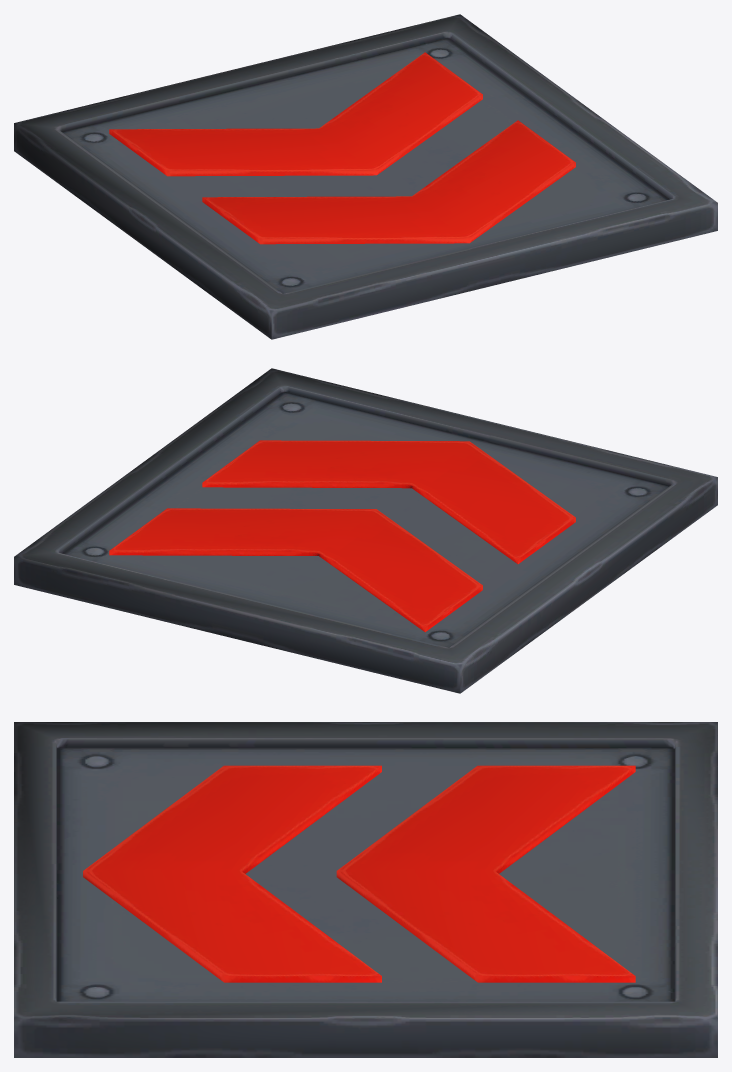
The model's file is SM_Step_Boost_01.glb.
3 views of the same model, one above another, from view 1: azimuth 30°, elevation 25°; view 2: azimuth 150°, elevation 25°; view 3: azimuth 270°, elevation 25° (orthographic). The views are drawn at different scales.
Visible parts, largest first — view 1: SM_Step_Boost_01; view 2: SM_Step_Boost_01; view 3: SM_Step_Boost_01.
Part boxes in pixels (bbox=[...]): SM_Step_Boost_01: bbox=[14, 14, 717, 339]; SM_Step_Boost_01: bbox=[14, 368, 717, 693]; SM_Step_Boost_01: bbox=[14, 722, 717, 1057].
Bounding box in the file's own units: 1 × 0.06 × 1.
1 material, 1 textured.
